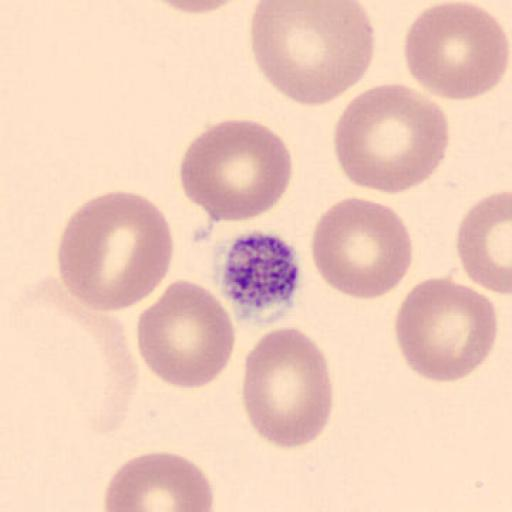Platelet: (217, 228, 304, 325)
RBC: (0, 273, 141, 512), (56, 188, 176, 312), (248, 1, 378, 108), (332, 80, 452, 195), (178, 118, 294, 224), (241, 324, 335, 449), (394, 276, 499, 384), (136, 279, 237, 390), (310, 194, 415, 300), (402, 1, 510, 102), (102, 450, 216, 512), (455, 188, 512, 294), (144, 0, 252, 16)
WBC: (0, 272, 142, 512)
